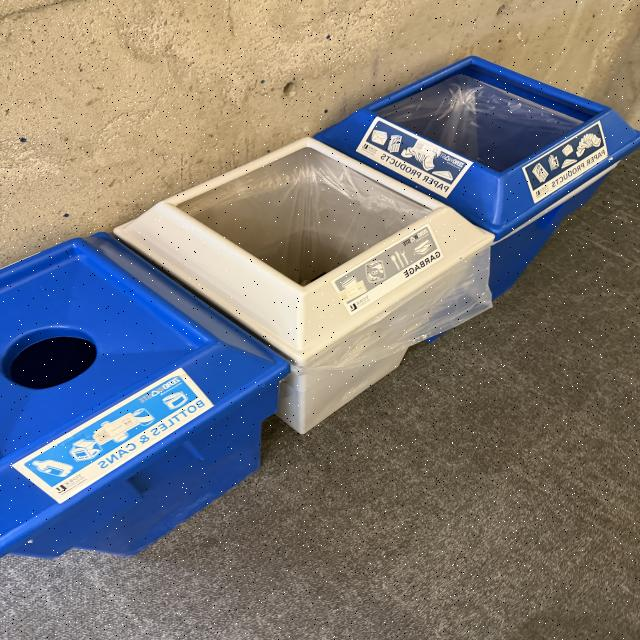Dustbin: (0, 54, 635, 553)
